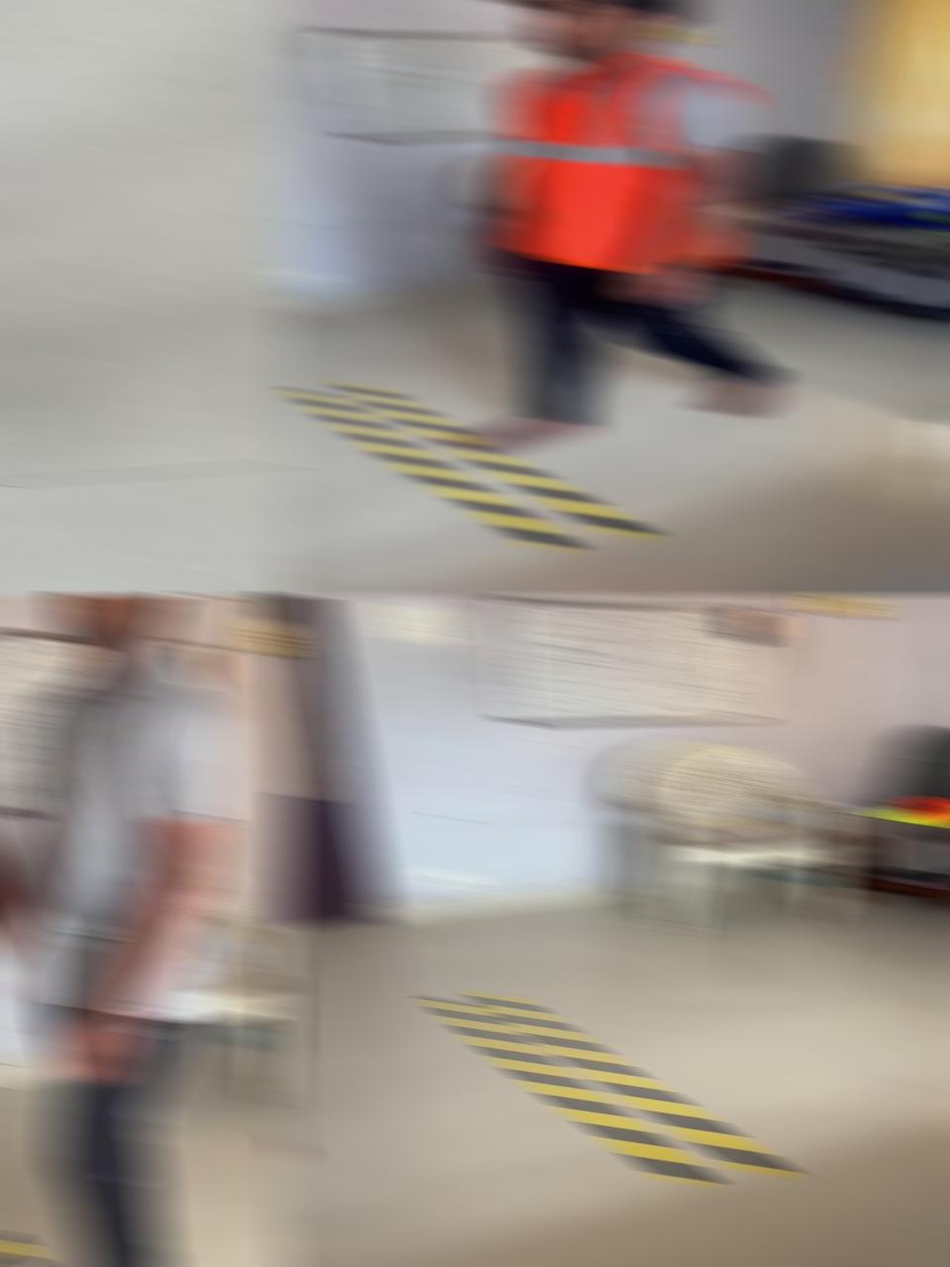BorderLine: (429, 992, 790, 1186), (284, 379, 655, 552)
No_Helmet: (522, 0, 672, 61), (51, 594, 200, 647)
No_Vest: (16, 643, 234, 1025)
Person: (0, 594, 238, 1267), (457, 0, 778, 450)
Vest: (499, 49, 751, 272)
